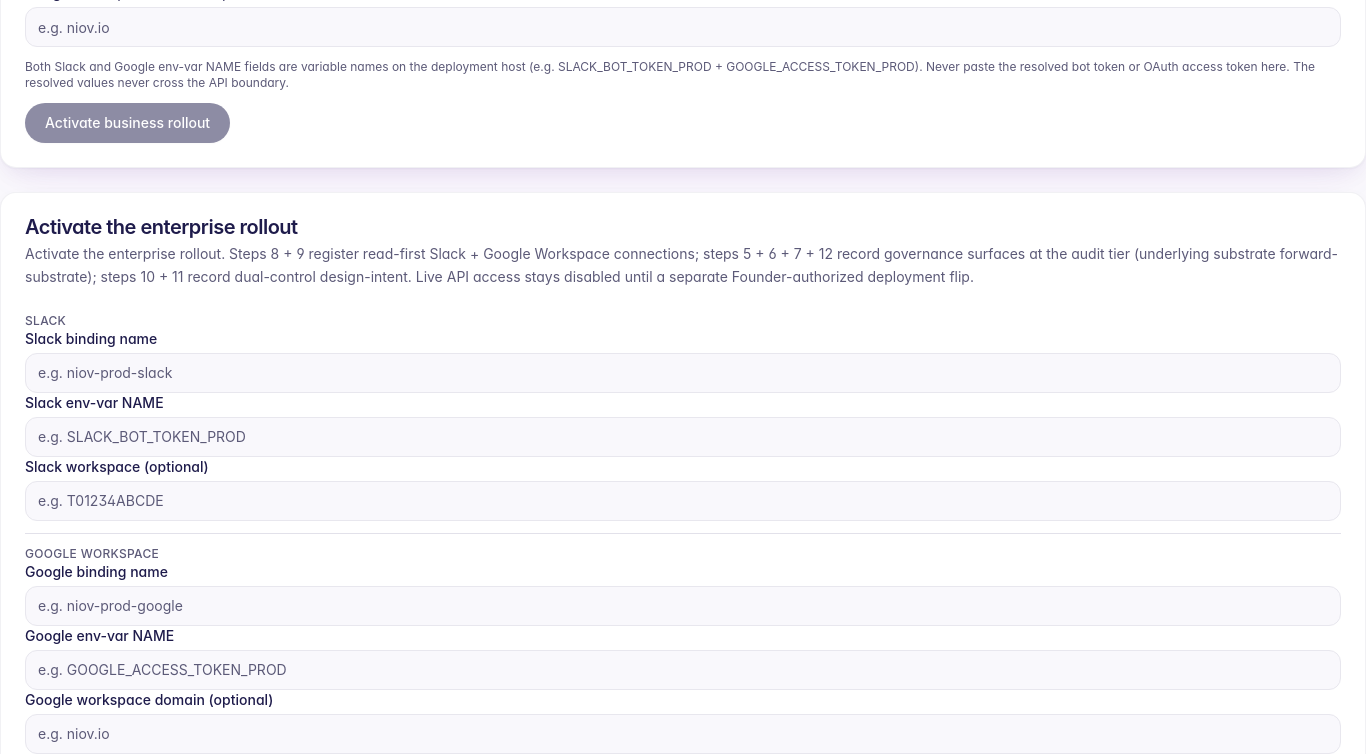
Test case: D6 enterprise — card shell › enables the submit button once all 4 required fields are filled
(page scrolled)
Type "niov-prod-slack" into the field with test id "enterprise-slack-display-name-input" at point(683, 372), box [25,352,1341,392]
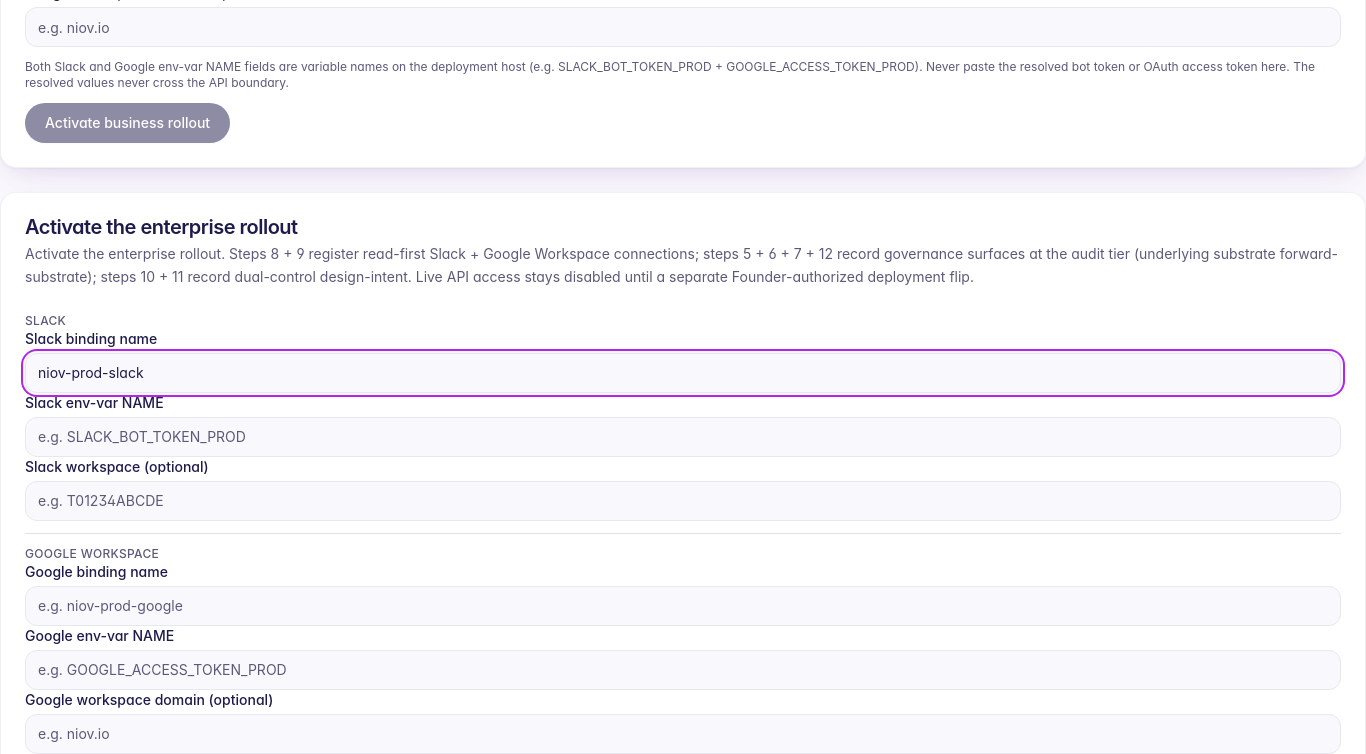
Type "SLACK_BOT_TOKEN_PROD" into the field with test id "enterprise-slack-secret-ref-input" at point(683, 436), box [25,416,1341,456]
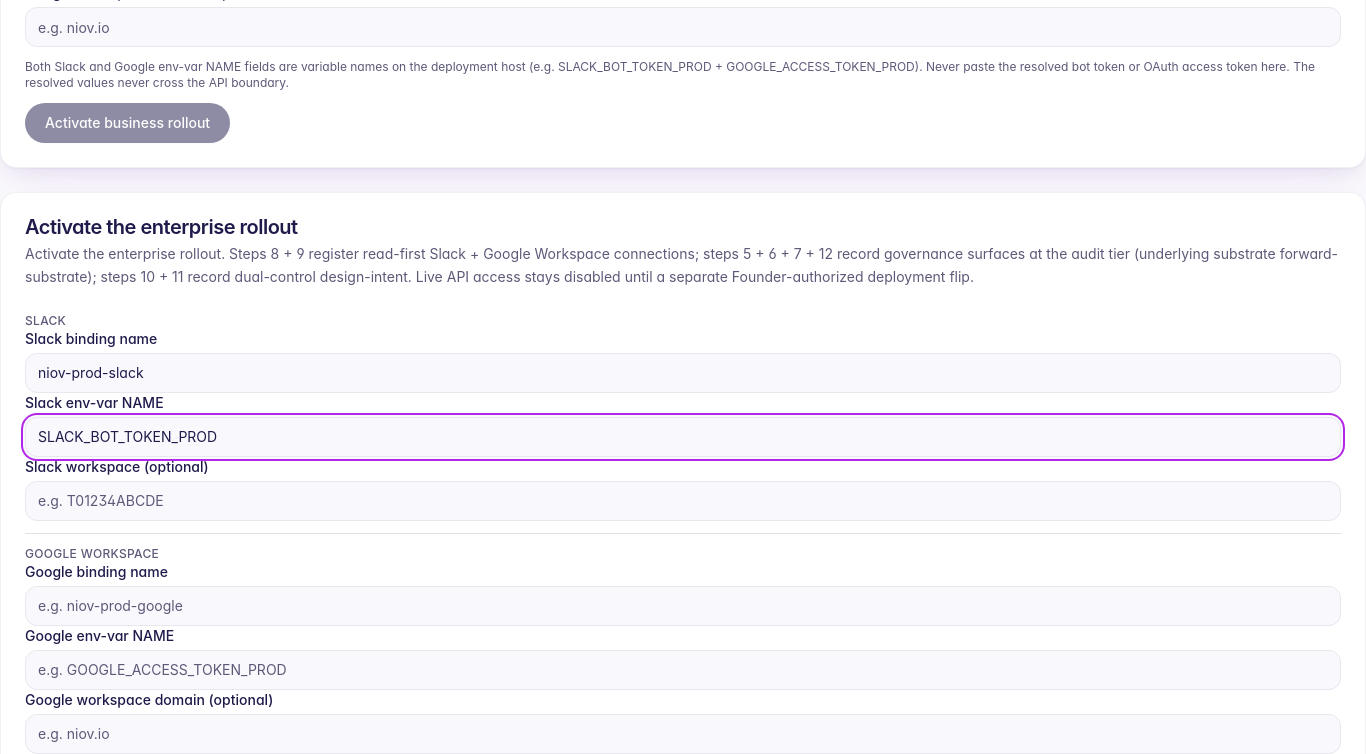
Type "niov-prod-google" into the field with test id "enterprise-google-display-name-input" at point(683, 606), box [25,586,1341,626]
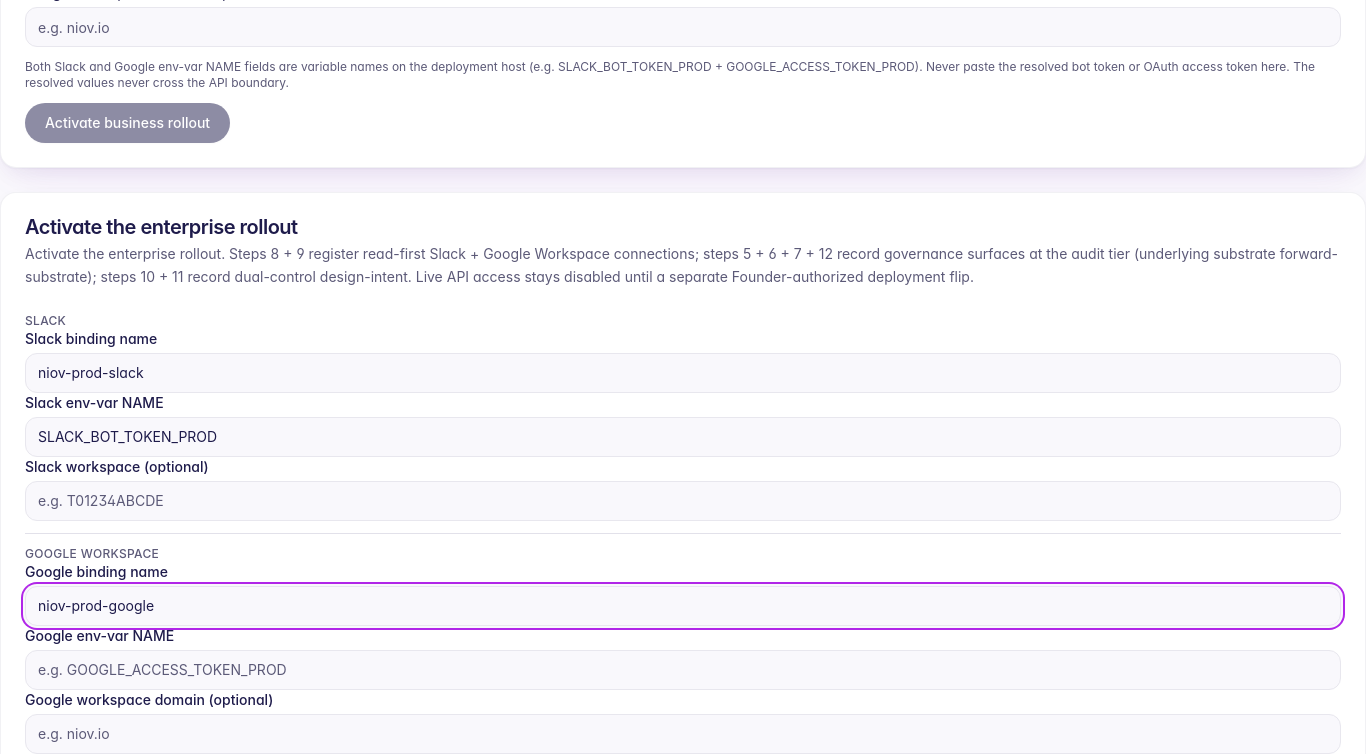
Type "GOOGLE_ACCESS_TOKEN_PROD" into the field with test id "enterprise-google-secret-ref-input" at point(683, 670), box [25,650,1341,690]
(page scrolled)
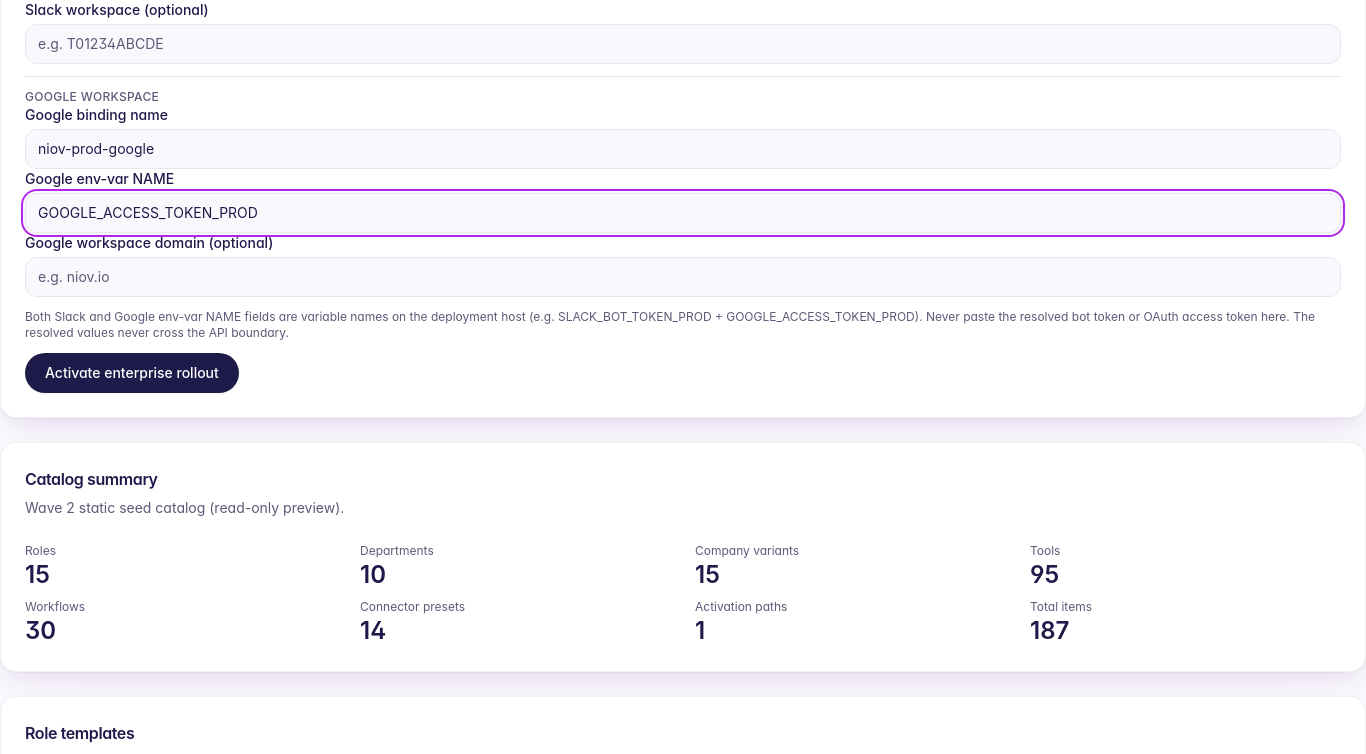
expect the button with test id "activate-enterprise-button" is enabled: met, box [25,352,239,392]
